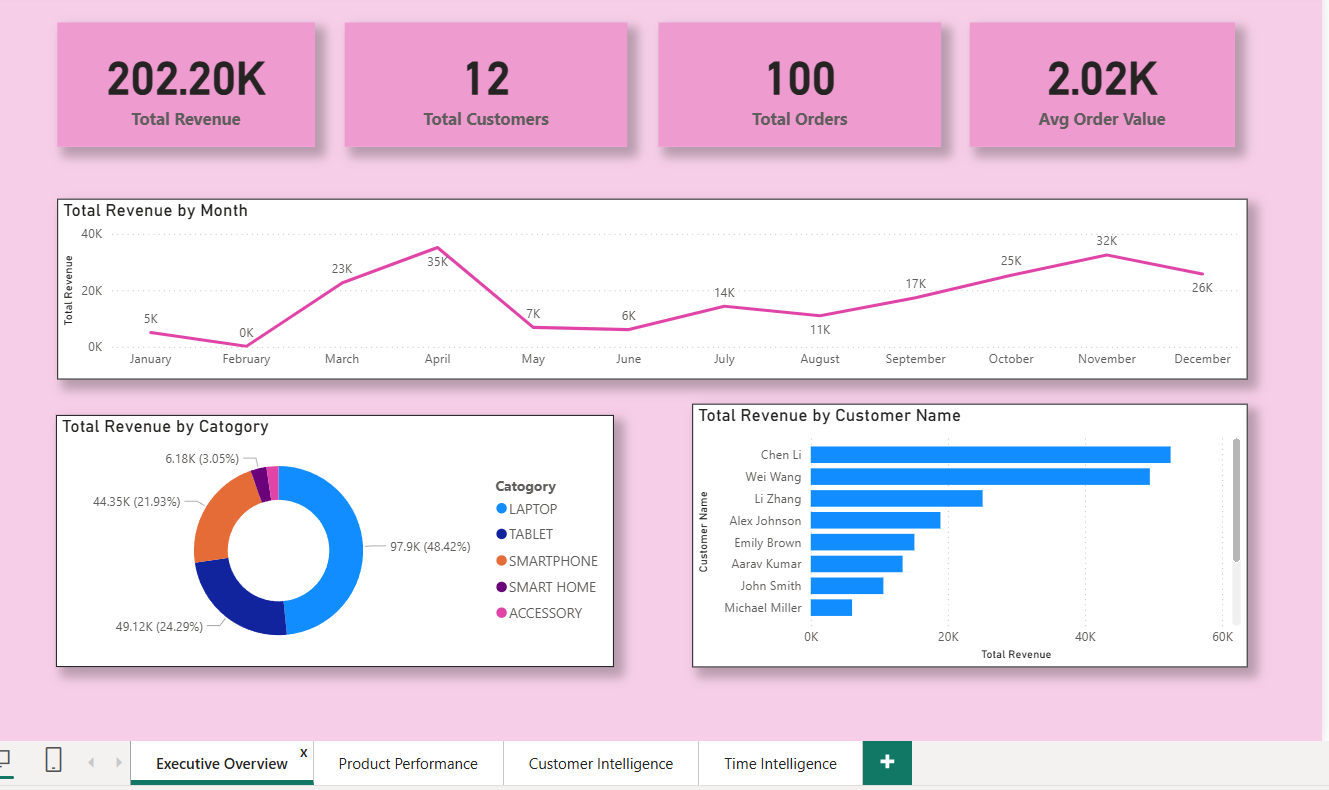

The page's visual inventory and layout, read from the dashboard file:
{"tool":"powerbi","page":{"name":"Executive Overview","canvas":[1280,720],"ordinal":0},"visuals":[{"type":"card","fields":{"Values":["clean_sales_analytics_processed.Total Customers"]},"box":[337.1,27.1,272.9,120],"z":0},{"type":"lineChart","fields":{"Category":["clean_sales_analytics_processed.Order Date.Variation.Date Hierarchy.Month"],"Y":["clean_sales_analytics_processed.Total Revenue"]},"box":[58.6,197.1,1148.6,174.3],"z":1000},{"type":"donutChart","fields":{"Category":["clean_sales_analytics_processed.Catogory"],"Y":["clean_sales_analytics_processed.Total Revenue"]},"box":[58.3,405,538.3,243.3],"z":2000},{"type":"barChart","fields":{"Y":["clean_sales_analytics_processed.Total Revenue"],"Category":["clean_sales_analytics_processed.Customer Name"]},"box":[671.4,394.3,535.7,254.3],"z":3000},{"type":"card","fields":{"Values":["clean_sales_analytics_processed.Total Revenue"]},"box":[58.6,27.1,248.6,120],"z":4000},{"type":"card","fields":{"Values":["clean_sales_analytics_processed.Total Orders"]},"box":[640,27.1,272.9,120],"z":5000},{"type":"card","fields":{"Values":["clean_sales_analytics_processed.Avg Order Value"]},"box":[940,27.1,255.7,120],"z":6000}]}

Visuals, with their boxes in screenshot pixels (x1, y1, x2, y2):
card - clean_sales_analytics_processed.Total Customers: 345/24/625/147
lineChart - clean_sales_analytics_processed.Order Date.Variation.Date Hierarchy.Month x clean_sales_analytics_processed.Total Revenue: 60/198/1236/377
donutChart - clean_sales_analytics_processed.Catogory x clean_sales_analytics_processed.Total Revenue: 60/411/611/660
barChart - clean_sales_analytics_processed.Total Revenue x clean_sales_analytics_processed.Customer Name: 687/400/1236/661
card - clean_sales_analytics_processed.Total Revenue: 60/24/315/147
card - clean_sales_analytics_processed.Total Orders: 655/24/935/147
card - clean_sales_analytics_processed.Avg Order Value: 962/24/1224/147
